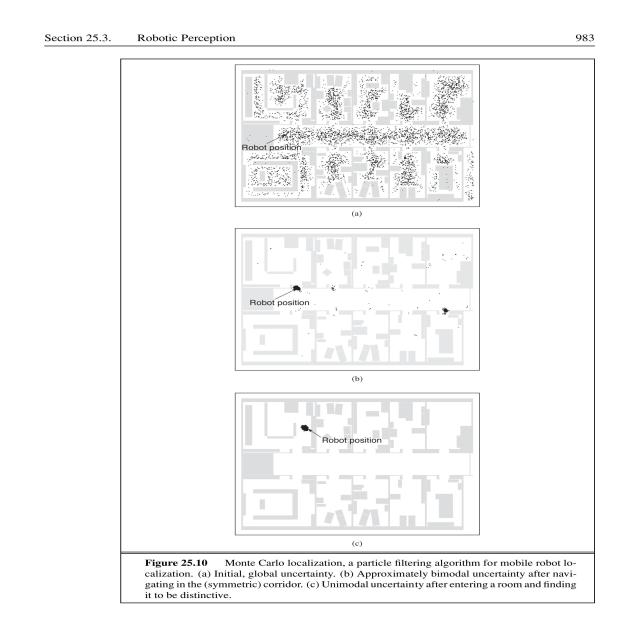diagram: (86, 50, 611, 615)
